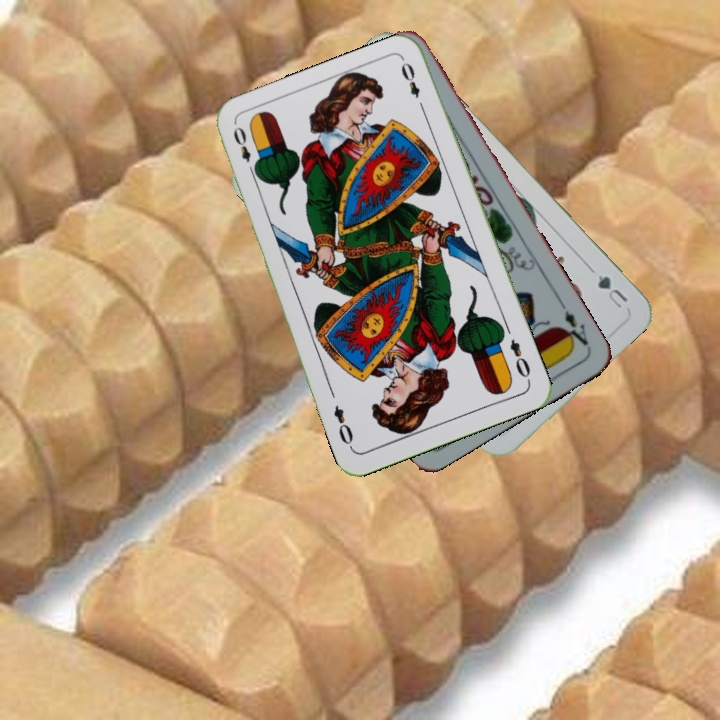EA: (557, 306, 592, 351)
EO: (229, 122, 260, 179), (505, 334, 533, 384)
GU: (593, 270, 631, 311)
